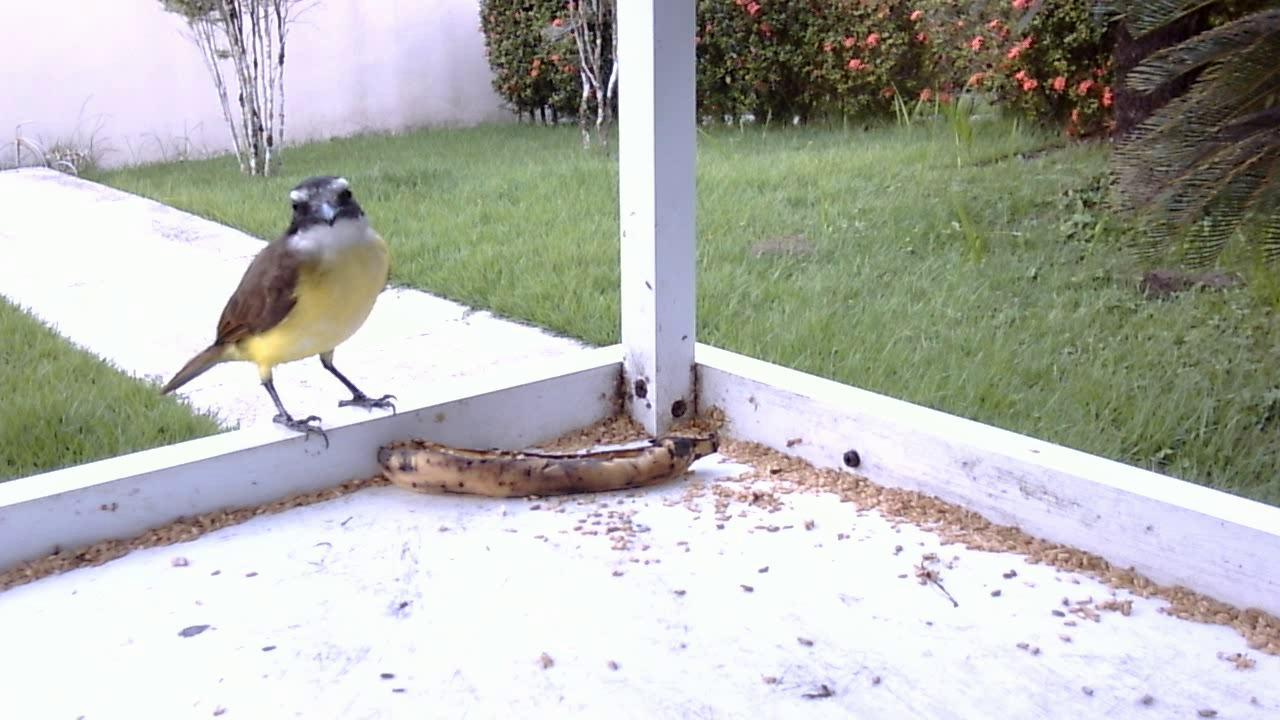bem_te_vi: (152, 164, 404, 458)
